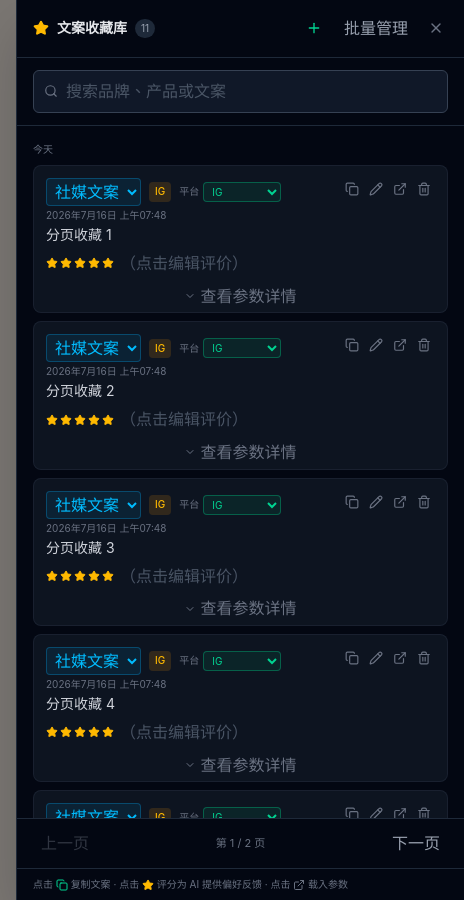
Test: 收藏库检索与分页 › 收藏超过 10 条时分页，并只全选当前页
The width and height of the screenshot is (464, 900).
Expected: the text "第 1 / 2 页" is shown, [216, 835, 265, 852]
Expected: the text "分页收藏 11" is not shown
Click the button "批量管理" at (376, 28), box [336, 12, 416, 45]
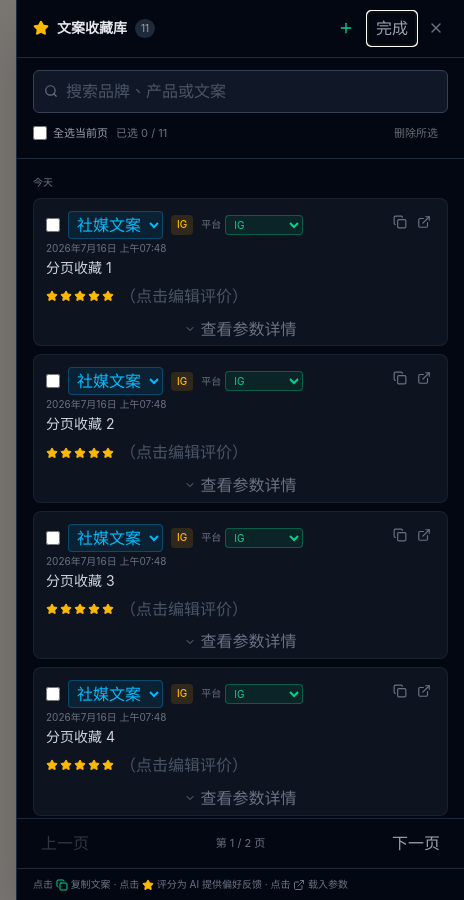
Click the checkbox named "全选当前收藏" at (40, 133), box [33, 126, 47, 140]
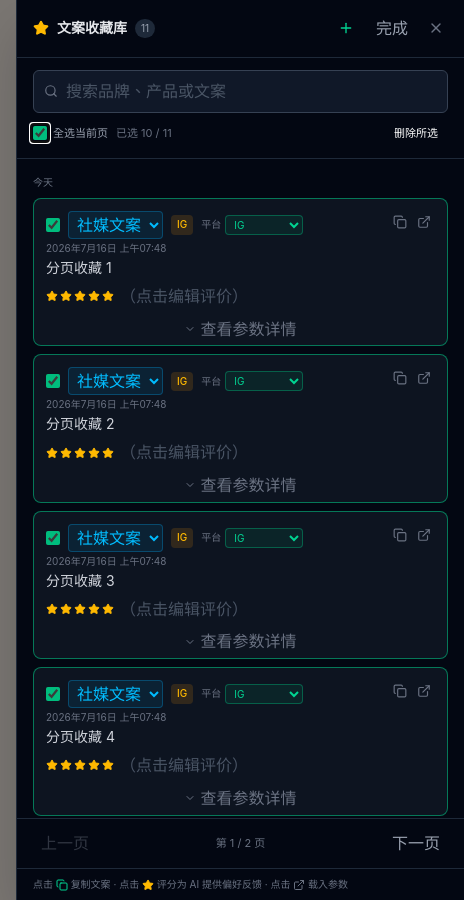
Now the text "已选 10 / 11" is shown, box [116, 125, 172, 142]
Click the button "下一页" at (416, 843), box [384, 827, 448, 860]
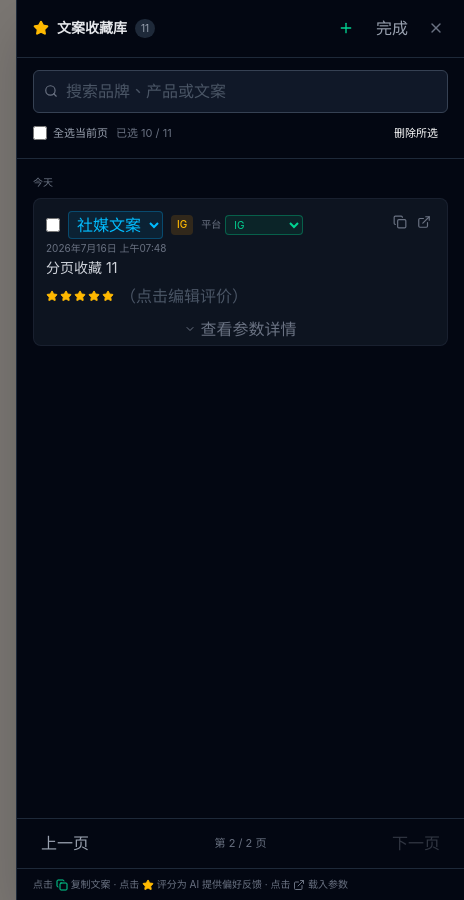
Now the text "已选 10 / 11" is shown, box [116, 125, 172, 142]
Now the text "分页收藏 11" is shown, box [46, 259, 117, 276]
